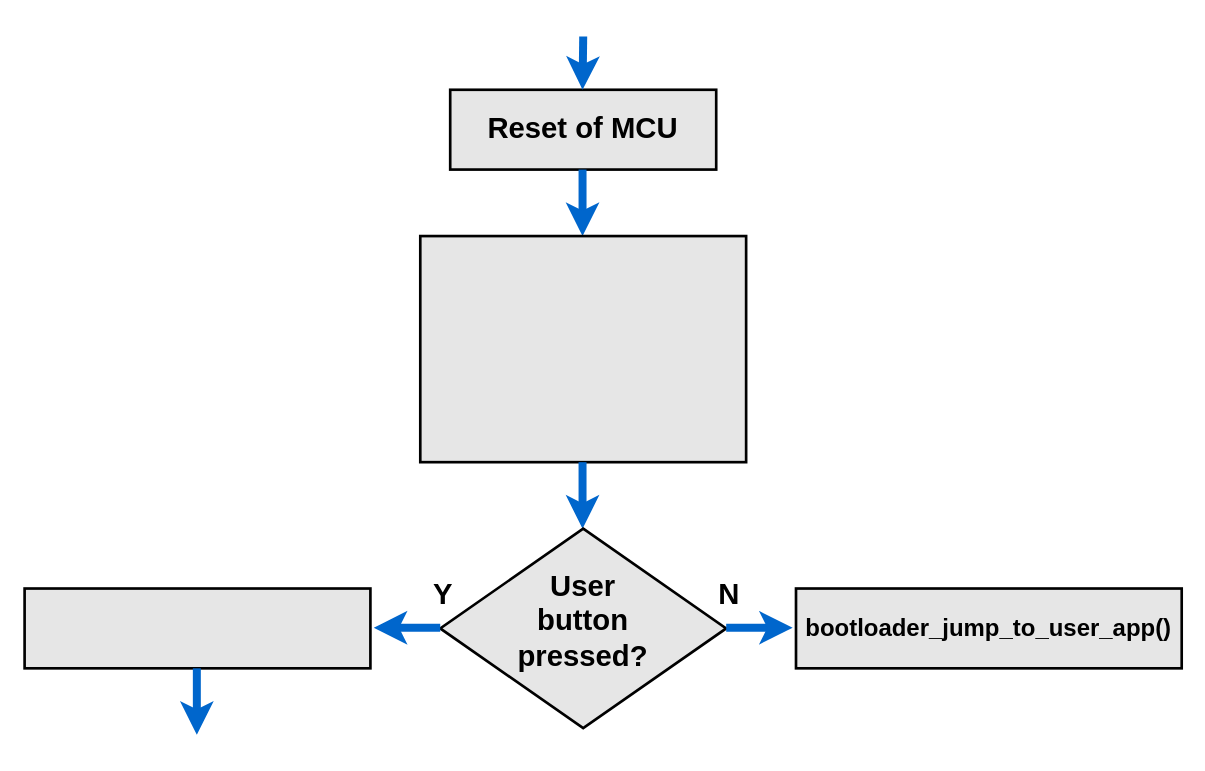
Image size: 1205x771. Some labels were removed from this diagram. Here are the shapes that lost their labels. From the top down, the box of each, then its label:
(418, 234, 747, 463): Inits: HAL GPIO UARTx CRC Clock
(23, 587, 371, 669): bootloader_uart_read_data()
